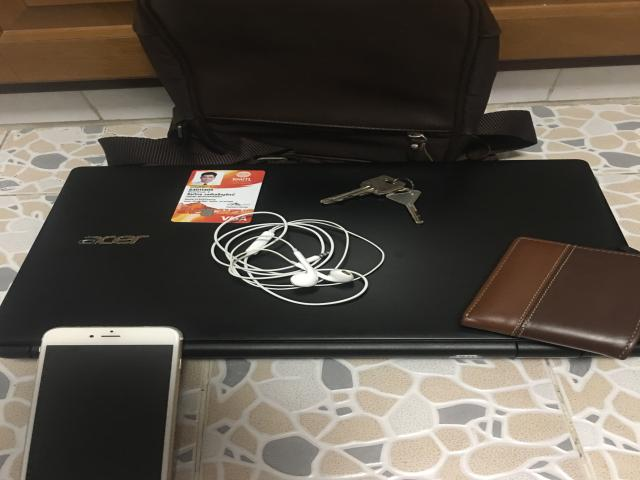Keys: (320, 175, 423, 224)
Mobile phone: (23, 326, 182, 480)
Wallet: (462, 237, 640, 359)
wire: (210, 211, 385, 306)
